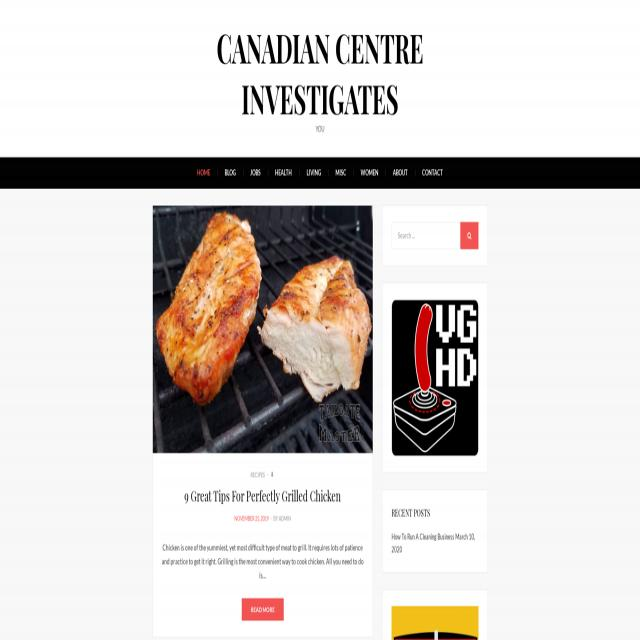button: (152, 205, 372, 453), (217, 21, 423, 124), (392, 299, 478, 456), (390, 606, 478, 640), (415, 158, 450, 189), (353, 158, 386, 189), (268, 158, 299, 189), (385, 158, 415, 189), (242, 599, 284, 621), (300, 158, 328, 189), (190, 157, 217, 188), (217, 158, 243, 189), (242, 158, 268, 189), (328, 158, 354, 189), (460, 222, 478, 249)
field: (392, 222, 461, 249)
